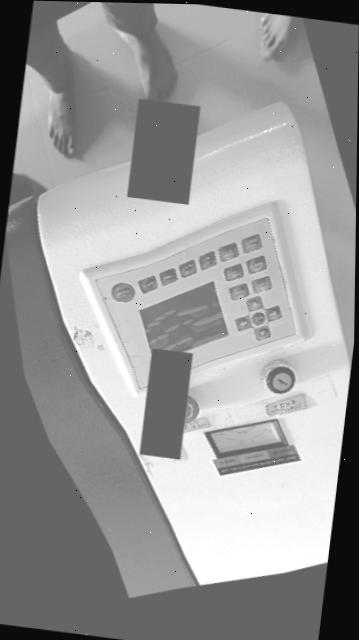Amp_Meter: (210, 423, 279, 453)
Display: (138, 282, 227, 351)
Down_button: (245, 296, 261, 313)
Emergency_Stop: (184, 395, 198, 425)
Enter_button: (251, 276, 271, 293)
Esc_button: (228, 283, 248, 301)
File_button: (218, 243, 238, 262)
Frame_button: (246, 255, 266, 274)
Left_button: (234, 316, 250, 331)
Max-Power_button: (198, 251, 215, 270)
Min-Power_button: (178, 260, 195, 278)
Origin_button: (223, 264, 243, 282)
Power_switch: (260, 360, 295, 394), (176, 313, 179, 316)
Pulse_button: (137, 276, 156, 294)
Reset_button: (110, 283, 134, 302)
Right_button: (265, 306, 281, 322)
Speed_button: (158, 268, 176, 286)
Start-Pause_button: (240, 234, 261, 253)
Up_button: (253, 325, 269, 341)
Z_U_button: (251, 312, 264, 326)
